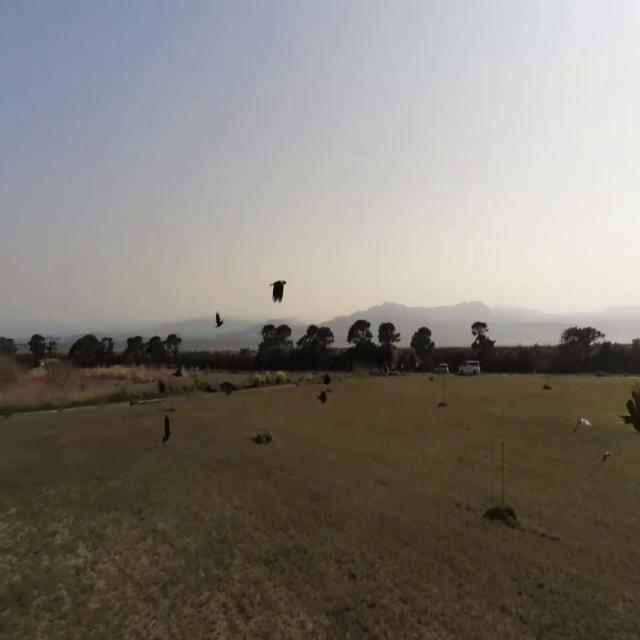bird: (271, 268, 286, 309), (162, 408, 171, 448), (215, 306, 223, 332)
